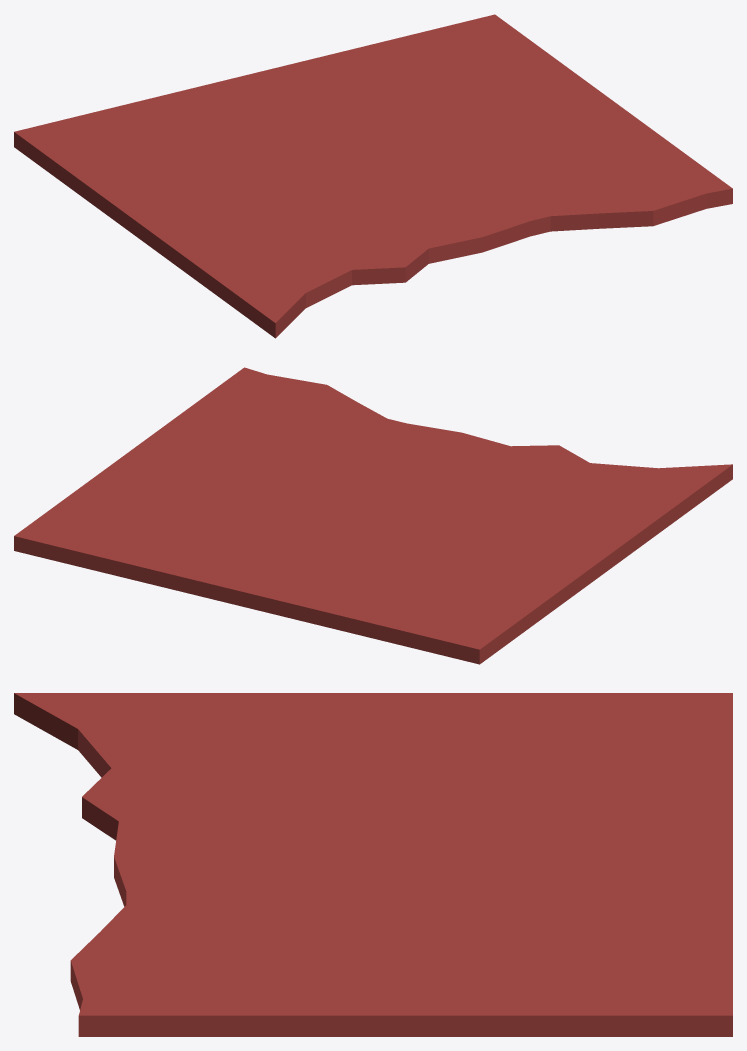
The model's file is Shore.fbx.
The picture shows the model from 3 angles, top to bottom: view 1: azimuth 30°, elevation 25°; view 2: azimuth 150°, elevation 25°; view 3: azimuth 270°, elevation 25°; orthographic projection. The views are drawn at different scales.
Visible parts, largest first — view 1: Cube.001; view 2: Cube.001; view 3: Cube.001.
Part boxes in pixels (x1,y1,x2,y2): Cube.001: [14, 14, 732, 338]; Cube.001: [14, 367, 732, 664]; Cube.001: [14, 693, 732, 1036].
Size of the model in its own units: 11874 by 362 by 11180.
